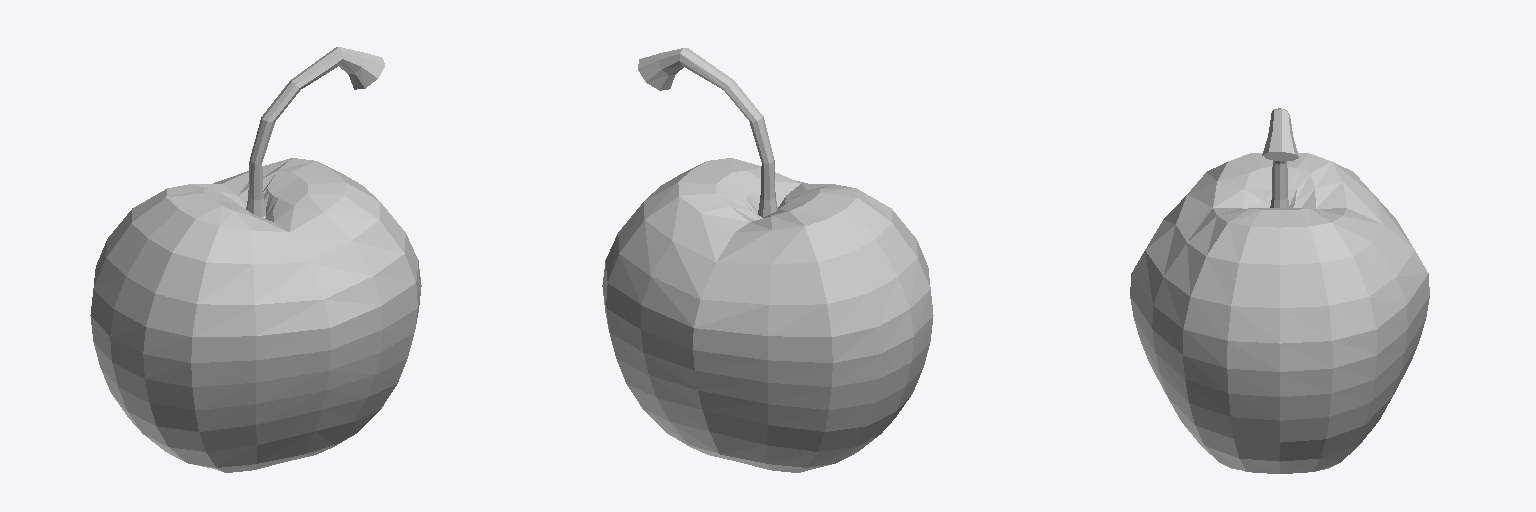
The model's file is cherry.obj.
The picture shows the model from 3 angles: view 1: azimuth 30°, elevation 25°; view 2: azimuth 150°, elevation 25°; view 3: azimuth 270°, elevation 25°; orthographic projection.
Visible parts, largest first — view 1: Cube.001_Cube; view 2: Cube.001_Cube; view 3: Cube.001_Cube.
Boxes of the visible parts, x1,y1,x2,y2 form: Cube.001_Cube: [90, 47, 421, 472]; Cube.001_Cube: [602, 48, 933, 472]; Cube.001_Cube: [1130, 108, 1429, 473].
Size of the model in its own units: 6.93 by 8.54 by 6.17.